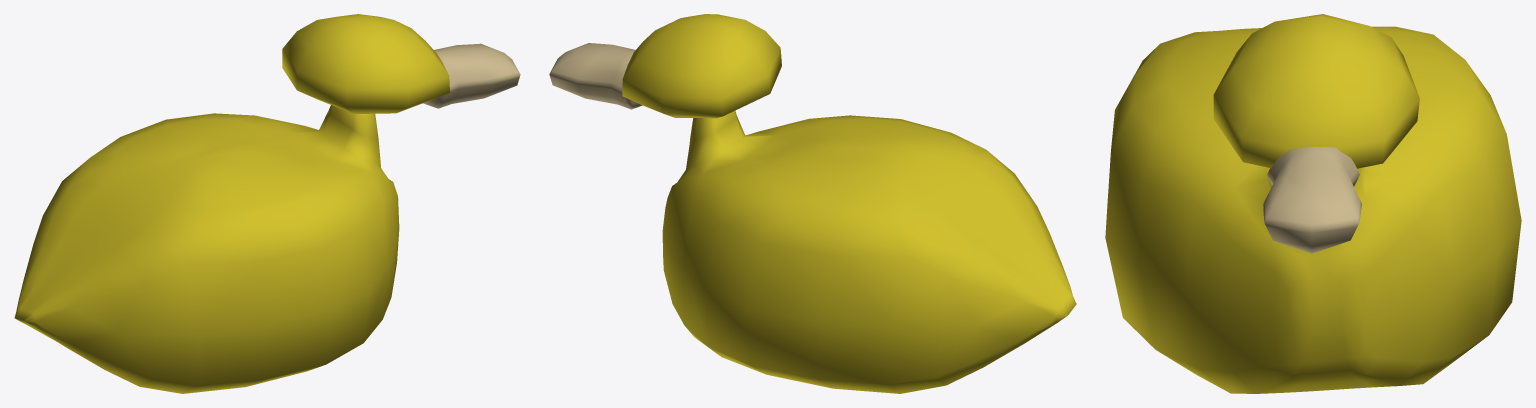
The model's file is yellow_mom_animated.fbx.
3 renders of one model, left to right at view 1: azimuth 30°, elevation 25°; view 2: azimuth 150°, elevation 25°; view 3: azimuth 270°, elevation 25°, orthographic. The views are drawn at different scales.
Parts seen in each view (by area): view 1: polySurface10; view 2: polySurface10; view 3: polySurface10.
Part boxes in pixels (x1,y1,x2,y2): polySurface10: (14, 14, 520, 393); polySurface10: (549, 14, 1076, 393); polySurface10: (1105, 14, 1521, 393).
Size of the model in its own units: 6.87 by 3.77 by 3.68.
